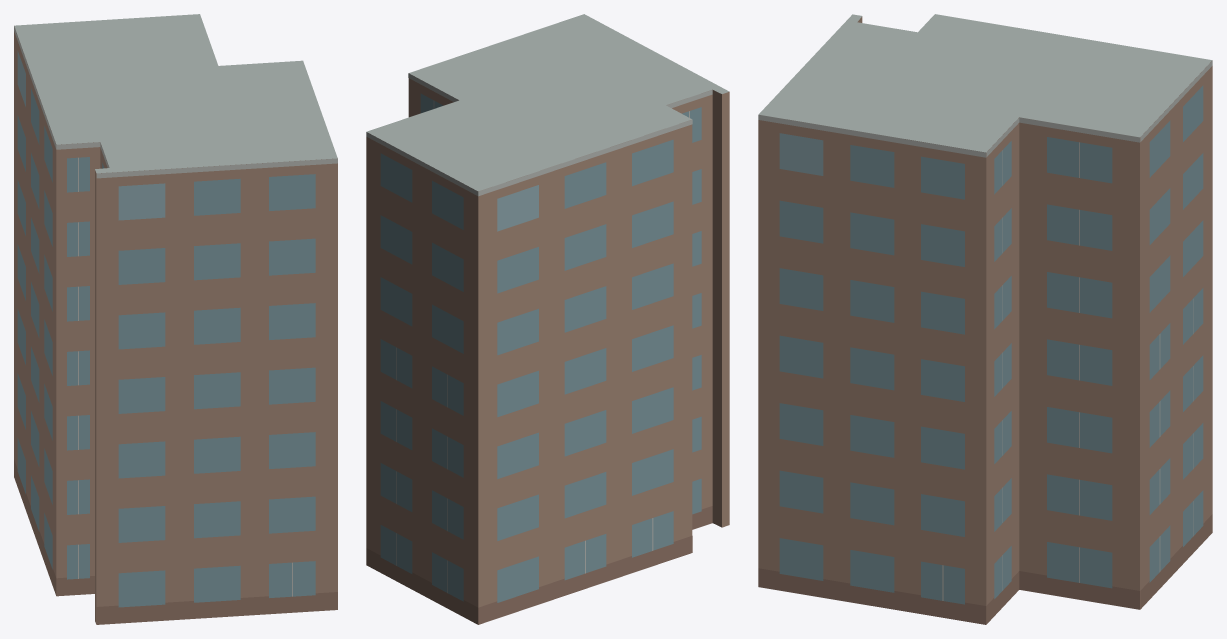
File: survey-upis-32624044.glb
3 renders of one model, left to right at view 1: azimuth 30°, elevation 25°; view 2: azimuth 150°, elevation 25°; view 3: azimuth 270°, elevation 25°, orthographic. The views are drawn at different scales.
Parts seen in each view (by area): view 1: survey-upis-32624044.tmp; view 2: survey-upis-32624044.tmp; view 3: survey-upis-32624044.tmp.
Part boxes in pixels (box(x1,y1,x2,y2)): survey-upis-32624044.tmp: box(14, 14, 337, 624); survey-upis-32624044.tmp: box(366, 14, 729, 624); survey-upis-32624044.tmp: box(758, 14, 1212, 624).
Bounding box in the file's own units: 13.78 × 21.9 × 19.09.
